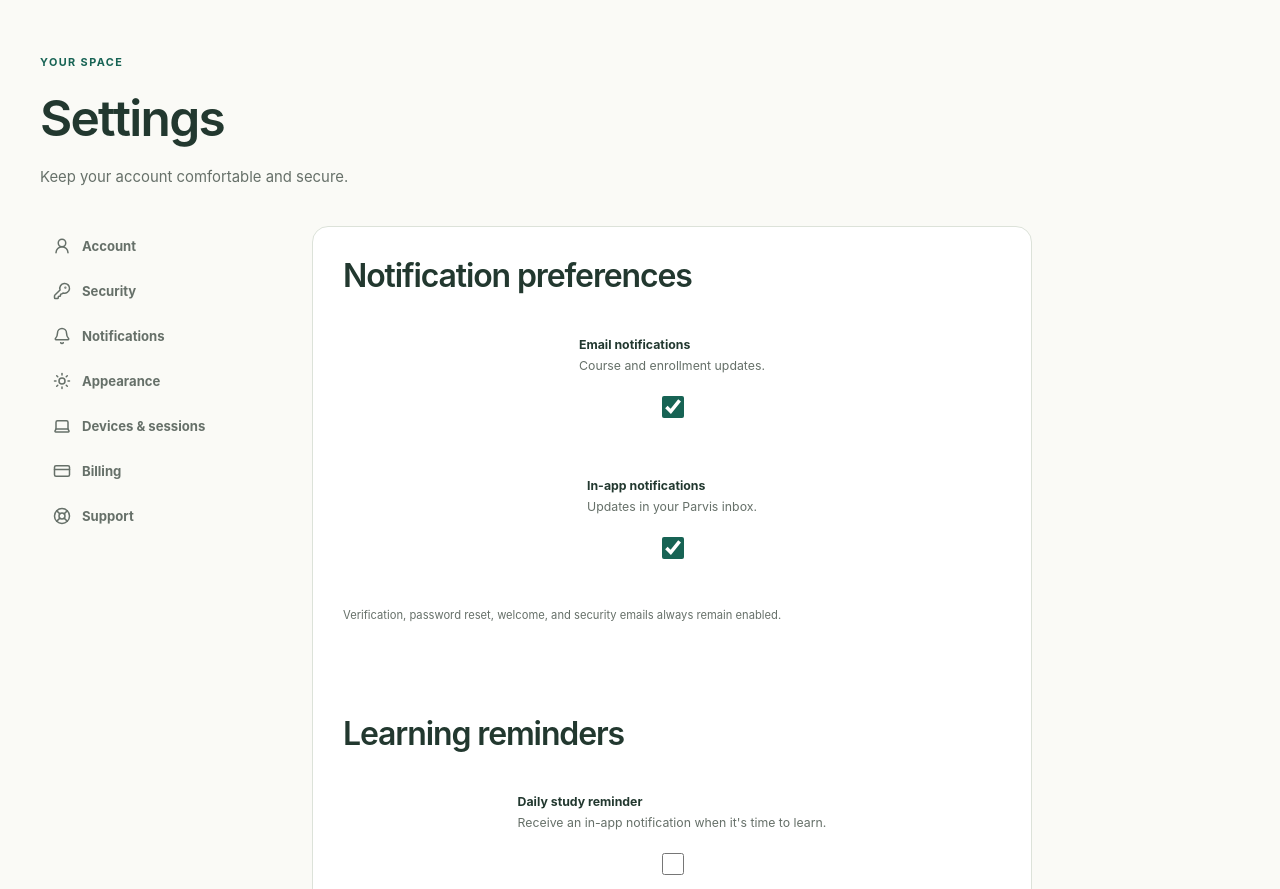
settings reads server preferences, saves switches, and reports success
The width and height of the screenshot is (1280, 889).
Click the checkbox labelled "Email notifications Course and enrollment updates." at x=672, y=407, box [662, 384, 684, 430]
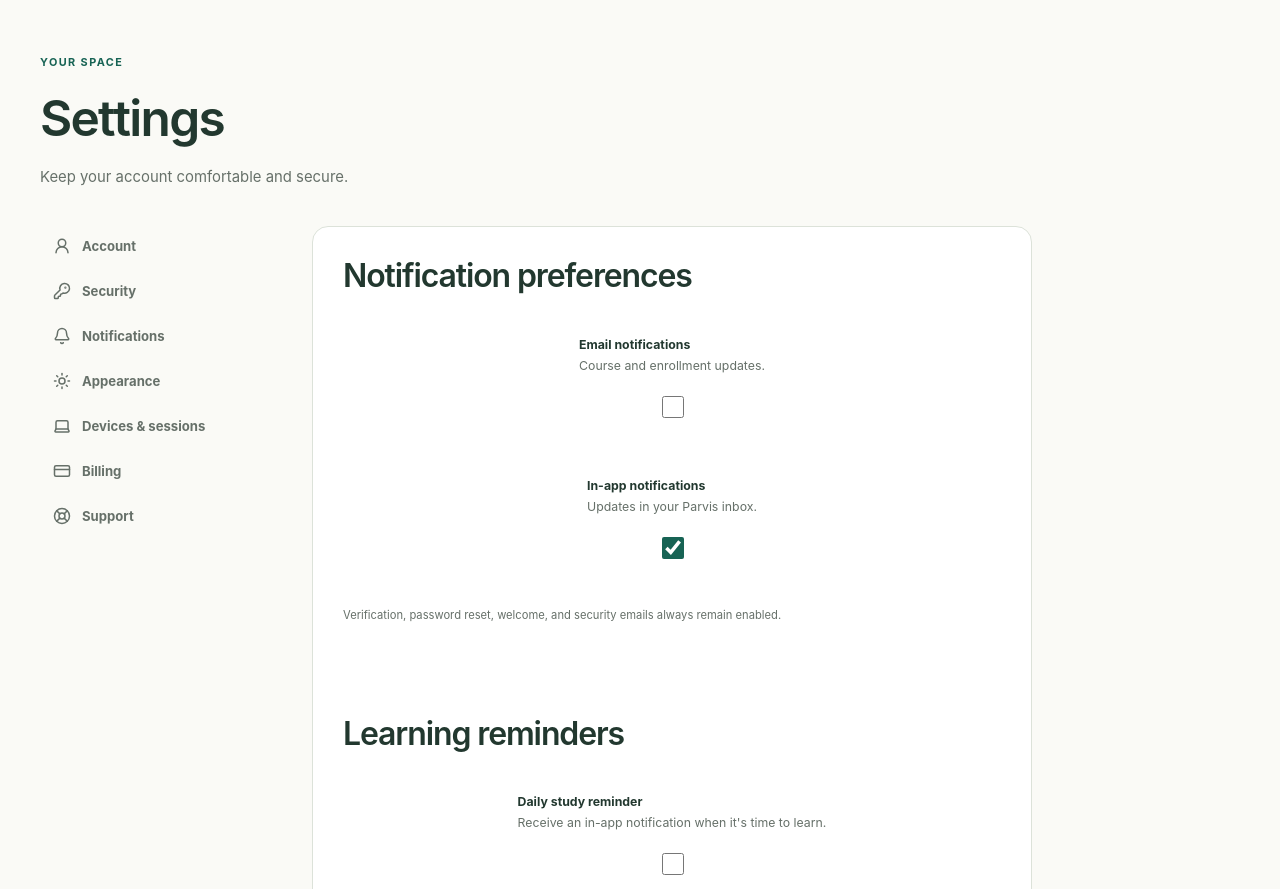
Click the checkbox labelled "In-app notifications Updates in your Parvis inbox." at x=672, y=548, box [662, 525, 684, 571]
(page scrolled)
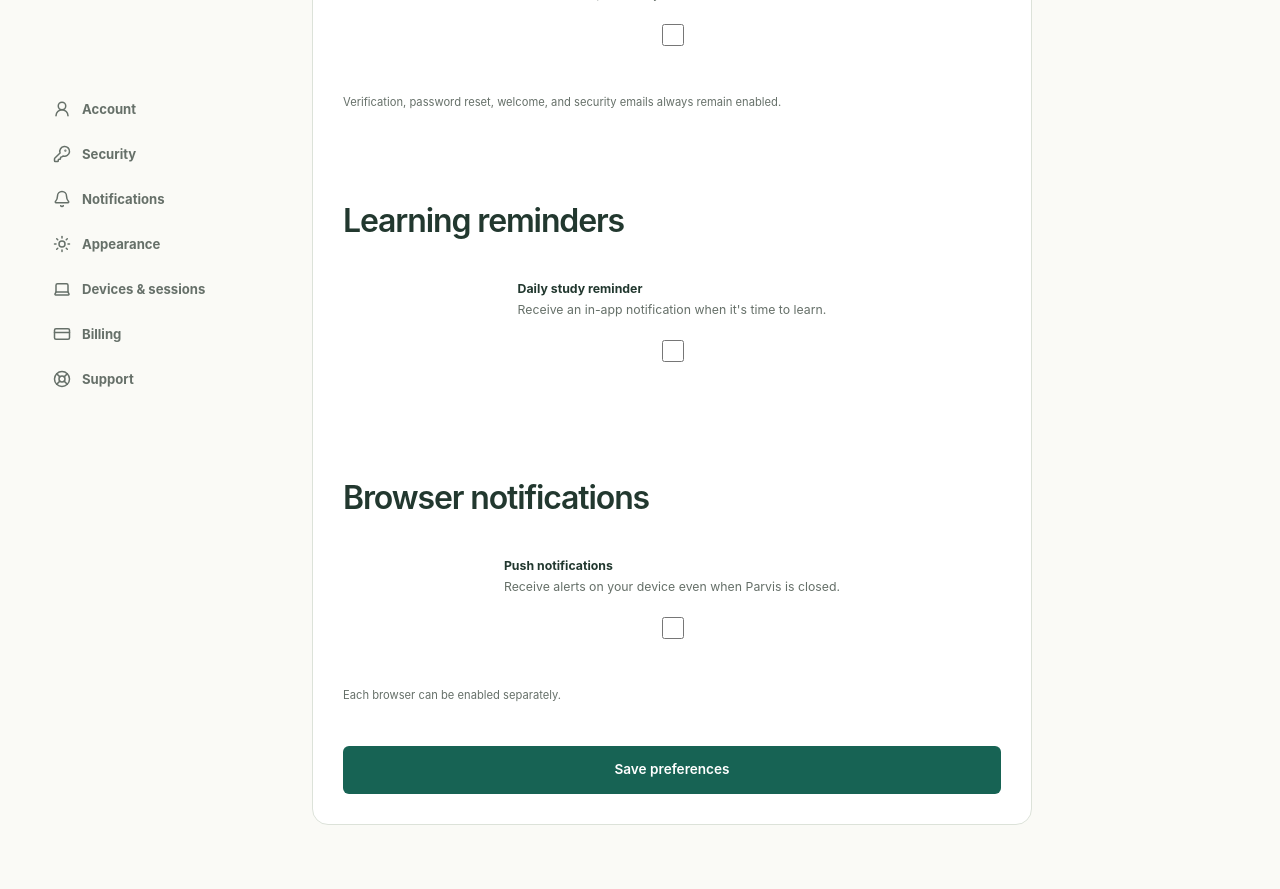
Click the button "Save preferences" at x=672, y=770, box [343, 746, 1001, 794]
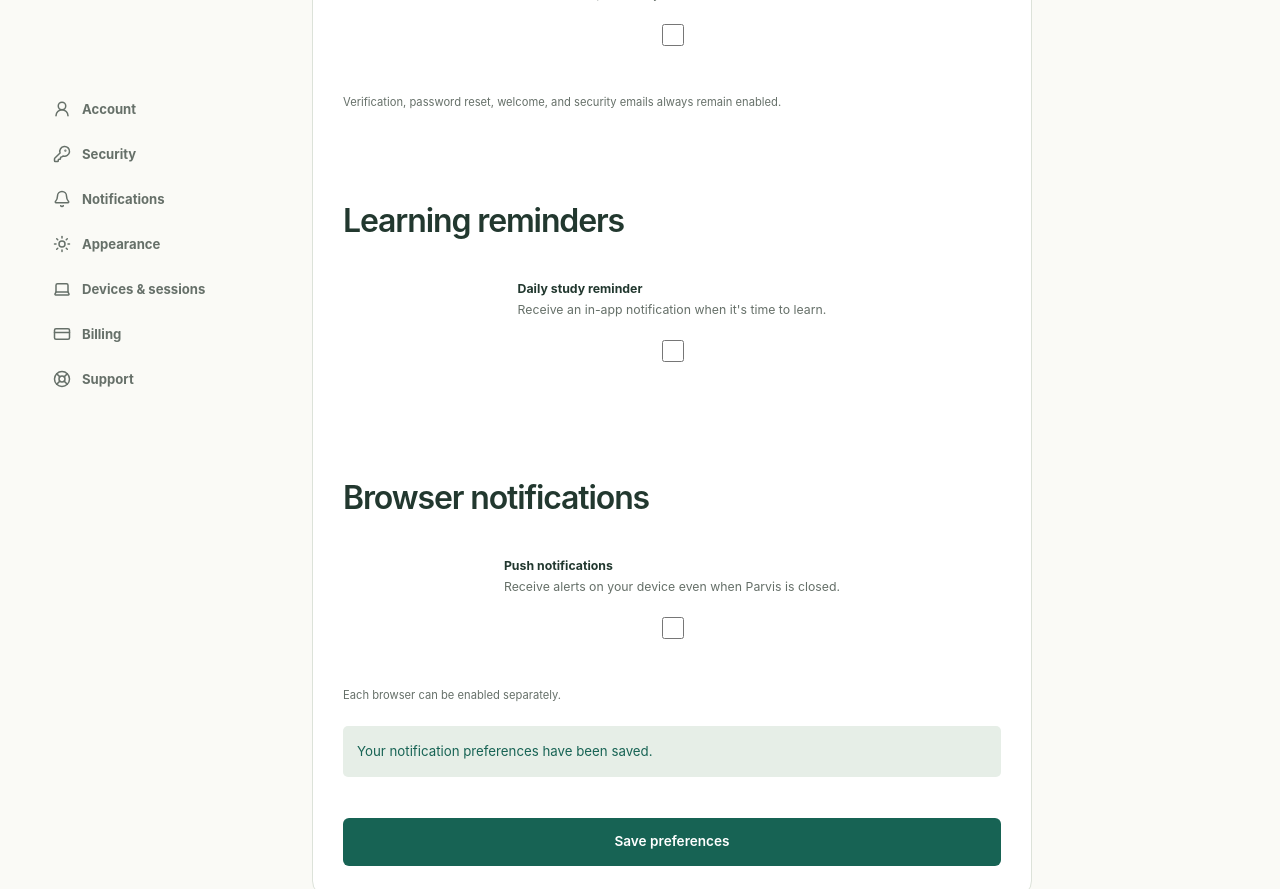
Result: the text "Your notification preferences have been saved." is shown at [343, 726, 1001, 777]
